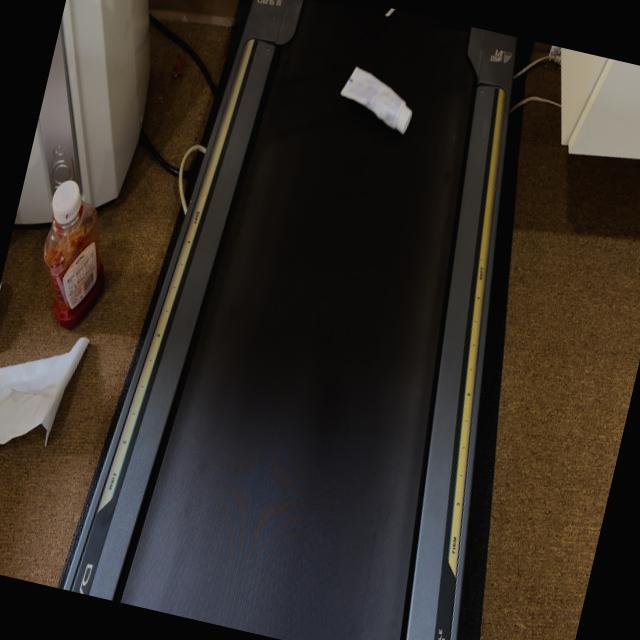Trash: (332, 59, 422, 138)
